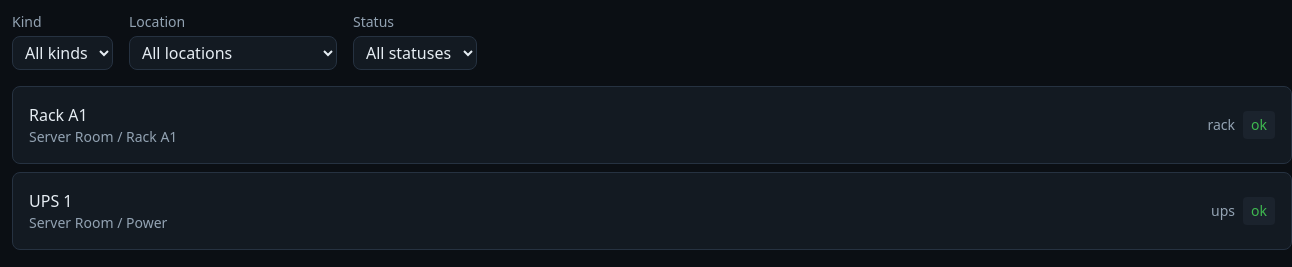
Test case: DevicesPage filters › filters by location
Expected: the text "Rack A1" is shown, 29,104 -> 88,126
Select "Server Room / Power" in the dropdown labelled "Location": (233, 53) 129,36 -> 337,70
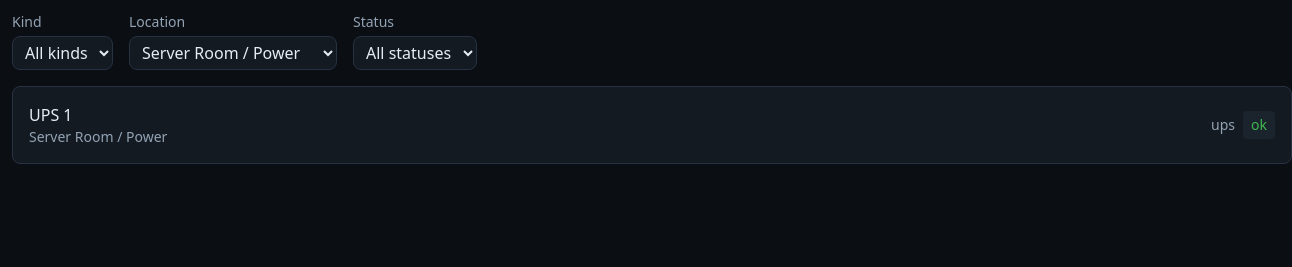
Expected: the text "UPS 1" is shown, 29,104 -> 72,126
Expected: the link "Rack A1" is gone
